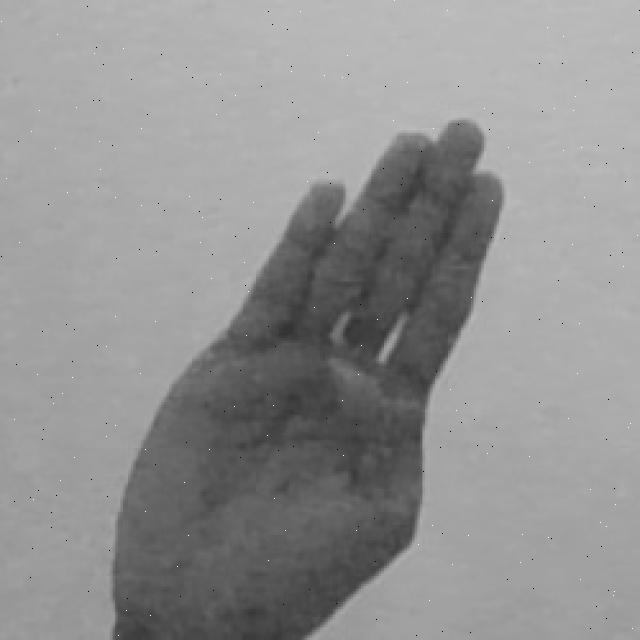B: (115, 115, 502, 640)
